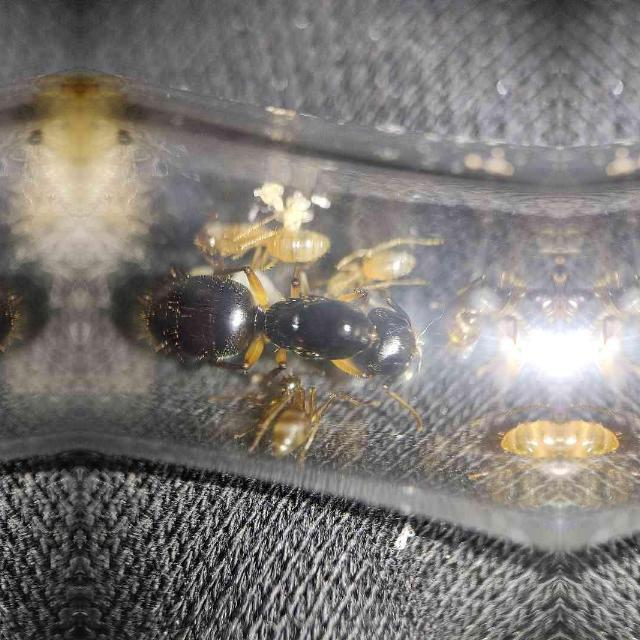Camponotus: (89, 242, 438, 380), (250, 342, 326, 460)
